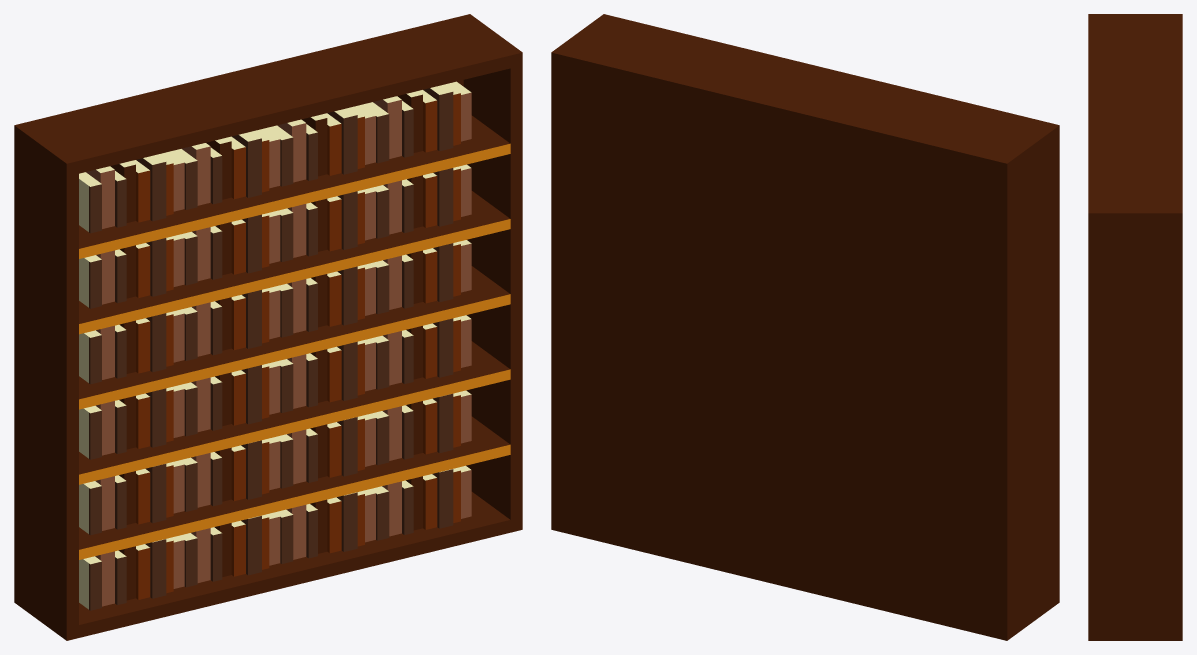
Rendered from bookshelf.fbx.
The picture shows the model from 3 angles, left to right: view 1: azimuth 30°, elevation 25°; view 2: azimuth 150°, elevation 25°; view 3: azimuth 270°, elevation 25°; orthographic projection. The views are drawn at different scales.
Parts seen in each view (by area): view 1: bookshelf; view 2: bookshelf; view 3: bookshelf.
Part boxes in pixels (x1=…): bookshelf: x1=14, y1=14, x2=522, y2=640; bookshelf: x1=551, y1=14, x2=1059, y2=640; bookshelf: x1=1088, y1=14, x2=1182, y2=640.
Bounding box in the file's own units: 200 × 200 × 40.
